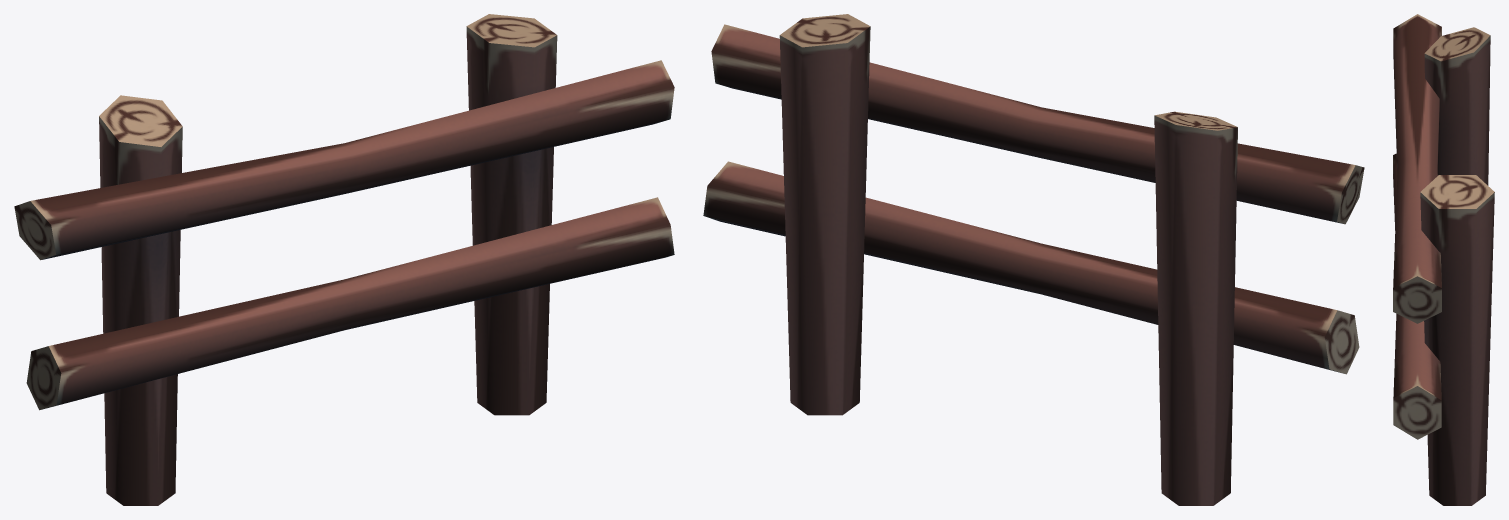
The model's file is arena_4.FBX.
3 renders of one model, left to right at view 1: azimuth 30°, elevation 25°; view 2: azimuth 150°, elevation 25°; view 3: azimuth 270°, elevation 25°, orthographic. The views are drawn at different scales.
Visible parts, largest first — view 1: Cylinder003; view 2: Cylinder003; view 3: Cylinder003.
Boxes of the visible parts, x1,y1,x2,y2 form: Cylinder003: [14, 14, 674, 505]; Cylinder003: [703, 14, 1364, 505]; Cylinder003: [1393, 14, 1494, 505].
Size of the model in its own units: 293 by 168 by 49.52.
